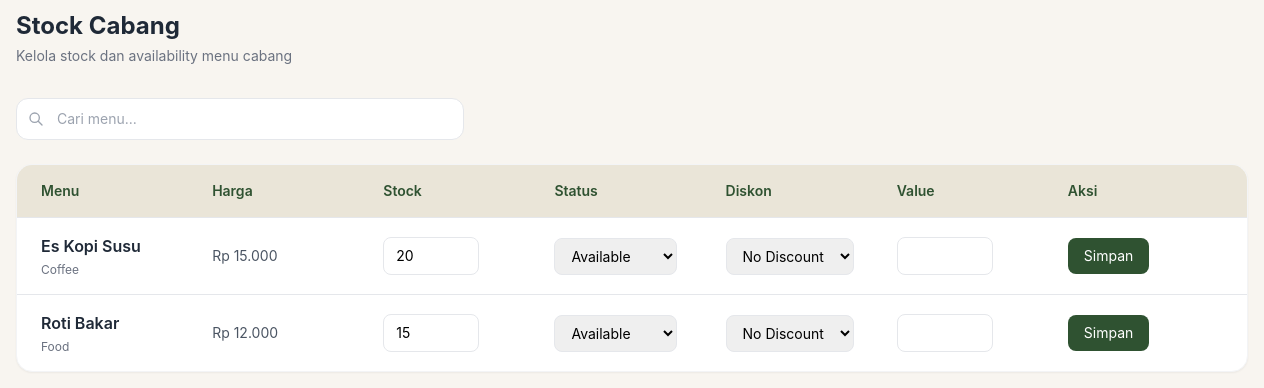
Test case: BranchStock Page › search filter bekerja
expect the text "Es Kopi Susu" is shown: met, box [41,236,141,256]
expect the text "Roti Bakar" is shown: met, box [41,313,119,333]
In the field with placeholder "Cari menu...": point(240, 119) [16,98,464,140], type "Roti"
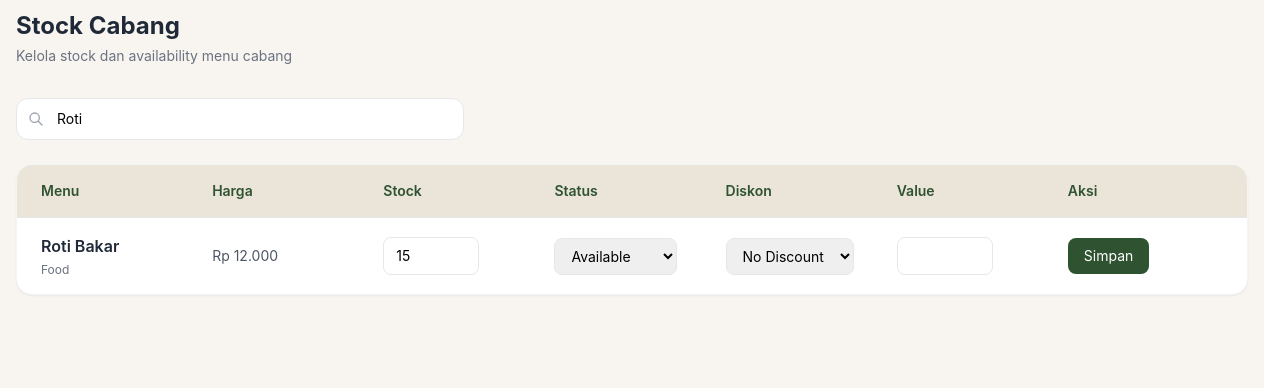
expect the text "Roti Bakar" is shown: met, box [41,236,119,256]
expect the text "Es Kopi Susu" is gone: met
